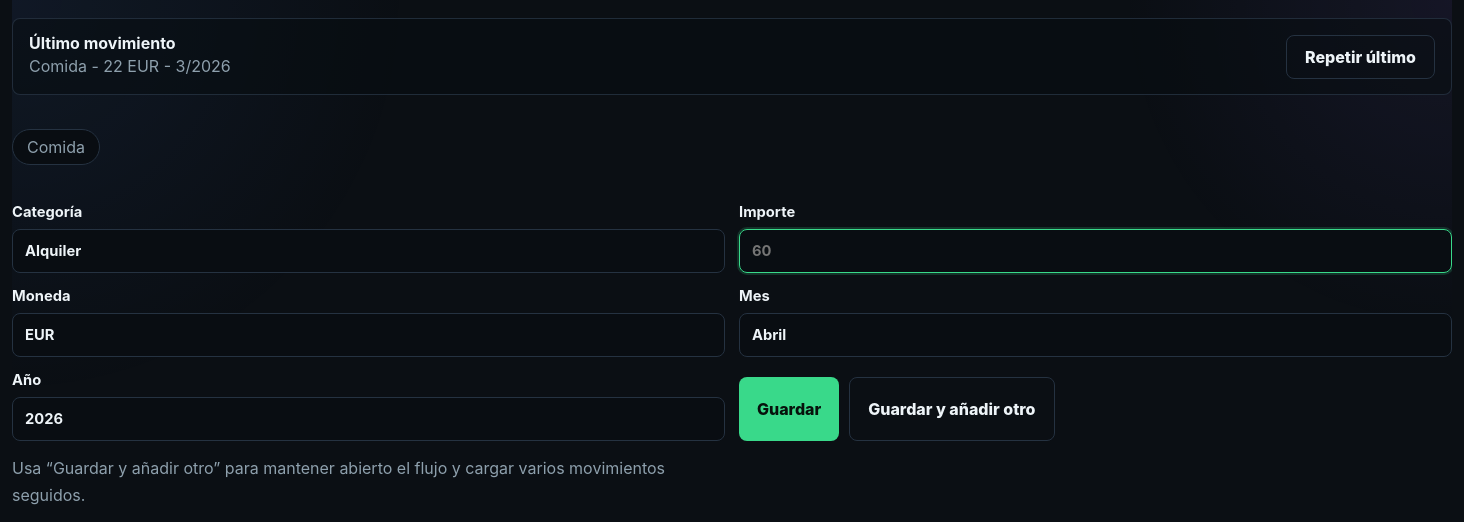
Test case: QuickAddExpensePanel › permite repetir el último movimiento guardado
Click the button "Repetir último" at (1360, 57), box [1286,35,1435,79]
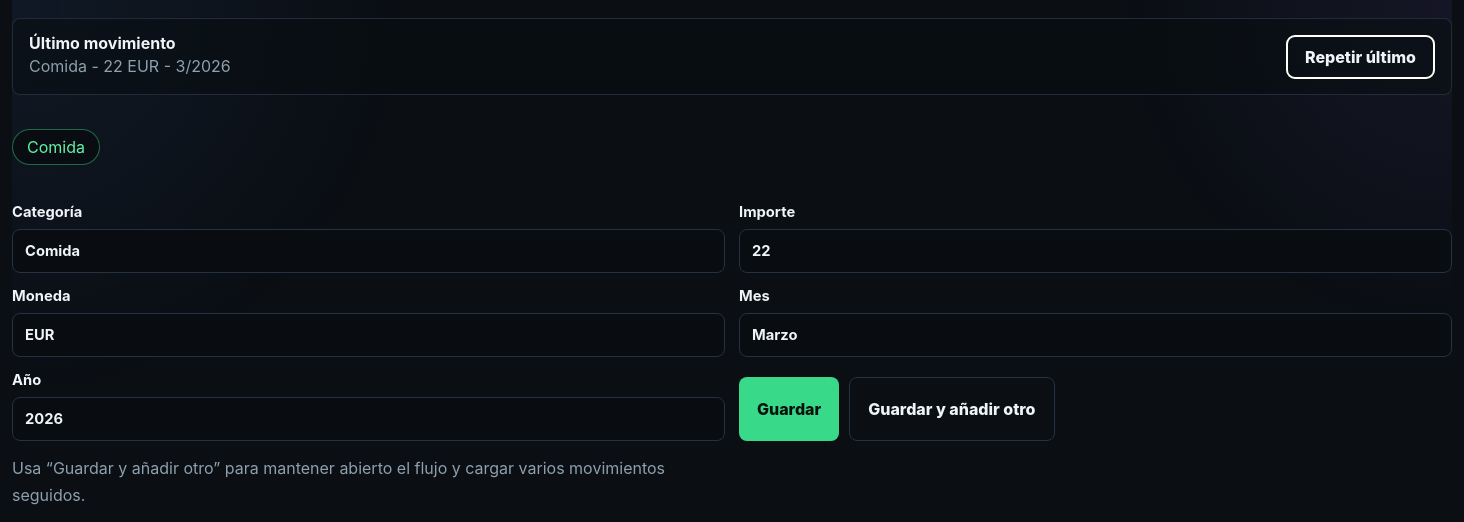
Expected: the button "Comida" is shown, [12,129,100,165]
Expected: the field showing "22" is shown, [739,229,1452,273]
